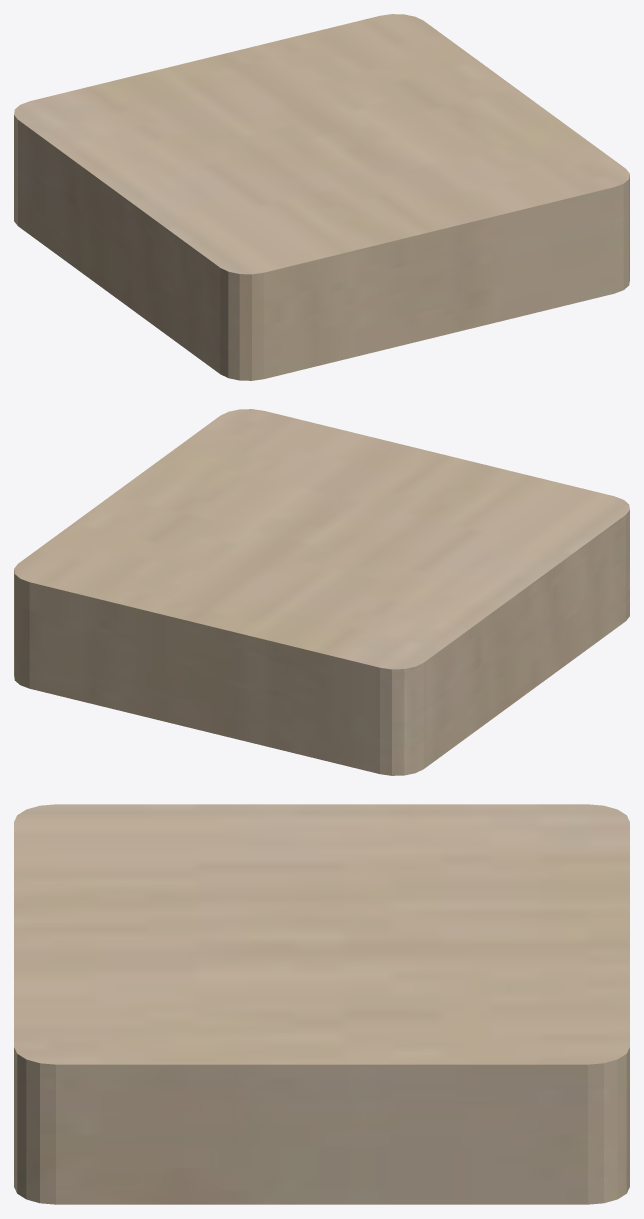
File: whitestone.glb
The picture shows the model from 3 angles, top to bottom: view 1: azimuth 30°, elevation 25°; view 2: azimuth 150°, elevation 25°; view 3: azimuth 270°, elevation 25°; orthographic projection. The views are drawn at different scales.
Visible parts, largest first — view 1: Cube.002; view 2: Cube.002; view 3: Cube.002.
Part boxes in pixels (x1=…): Cube.002: x1=14, y1=14, x2=629, y2=380; Cube.002: x1=14, y1=409, x2=629, y2=775; Cube.002: x1=14, y1=804, x2=629, y2=1204.
Bounding box in the file's own units: 2.79 × 0.7001 × 2.79.
Materials: 1 (1 with a texture image).
